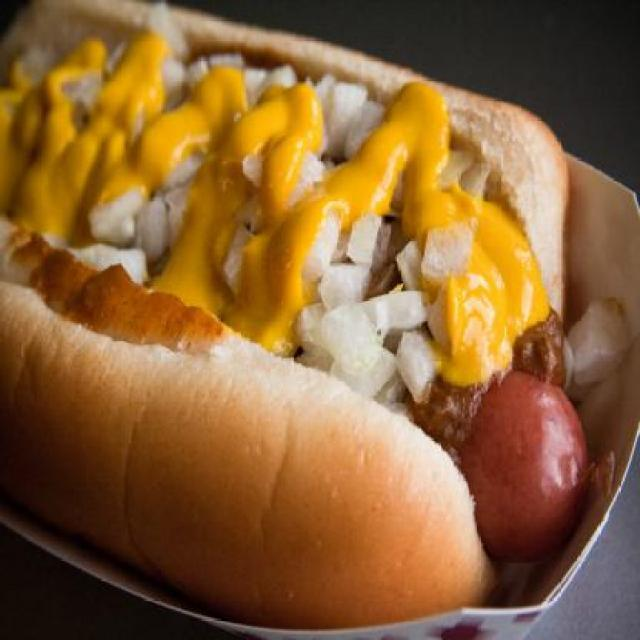Hot dog: (0, 0, 569, 634)
